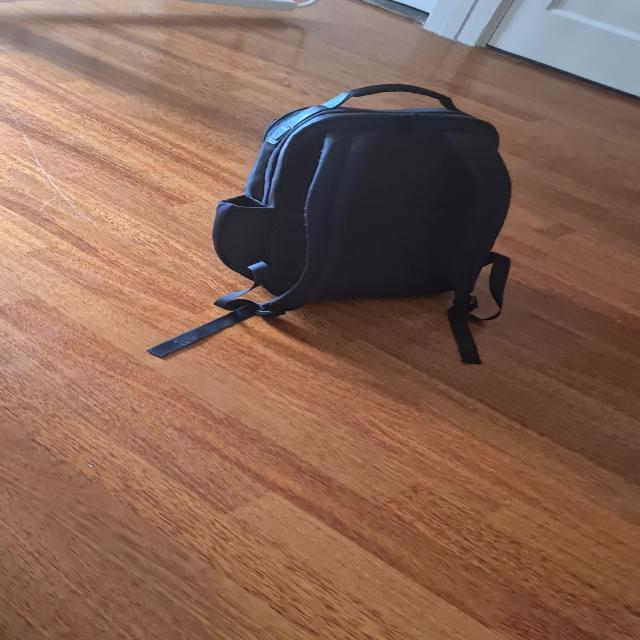backpack: (203, 75, 520, 317)
